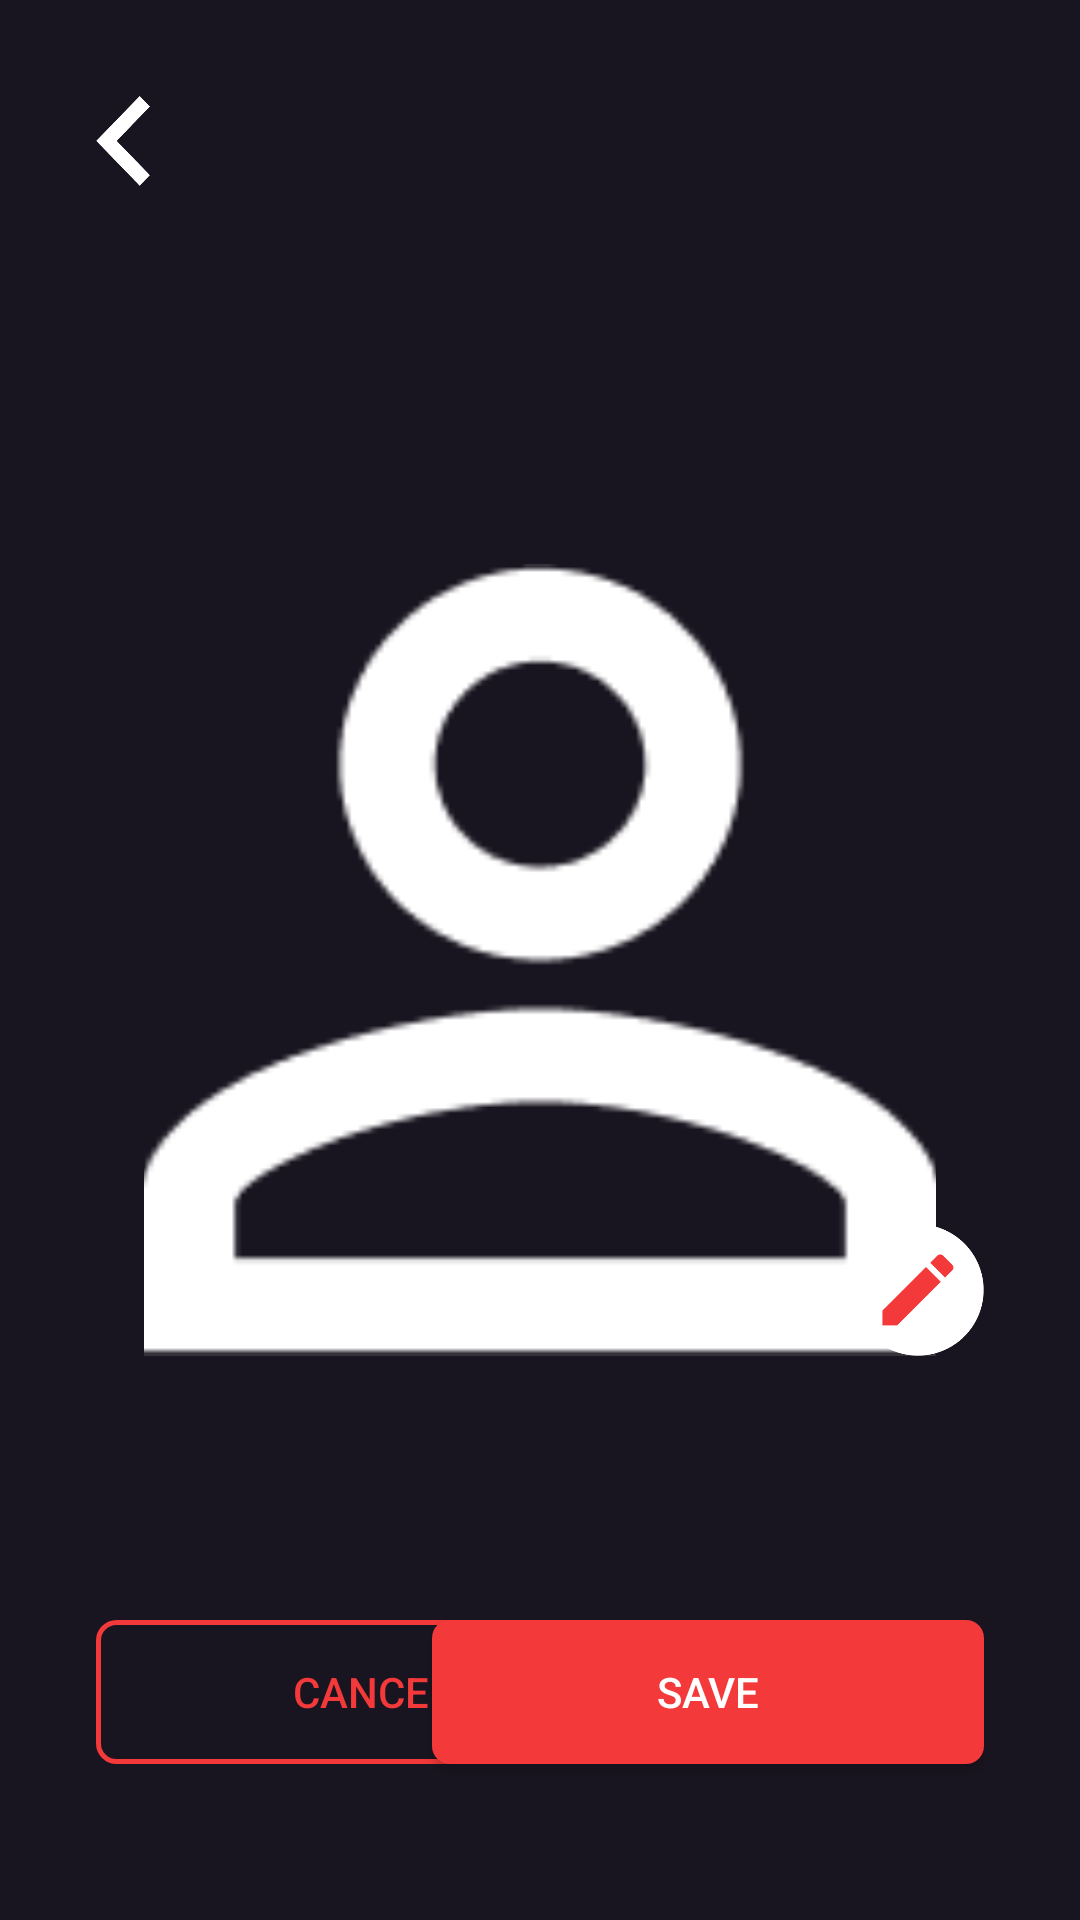

Icons on this 1080×1920 Android screen, each with the point to tap as (x,y):
back: (123,141)
edit: (918,1290)
